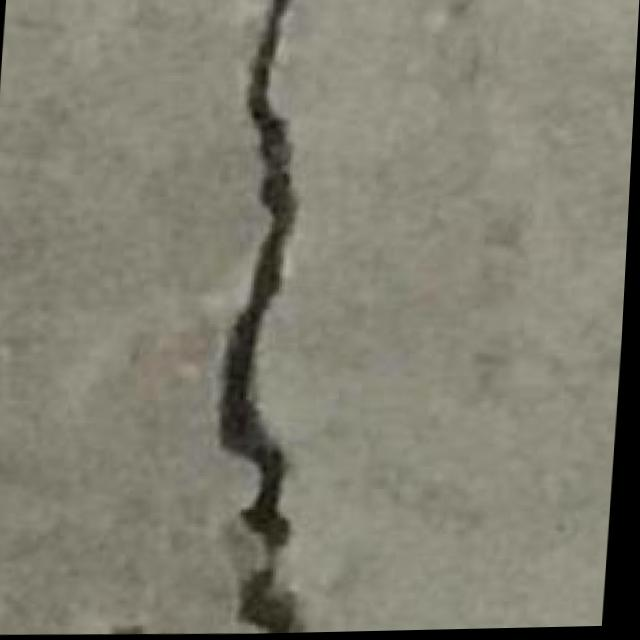Crack: (161, 0, 376, 634)
